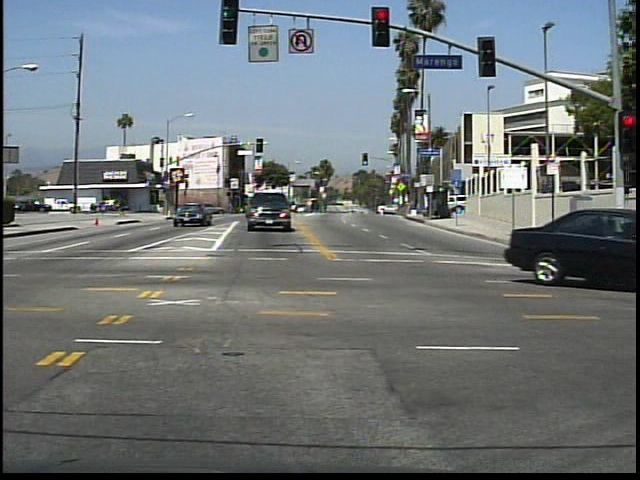person: (117, 195, 129, 219)
